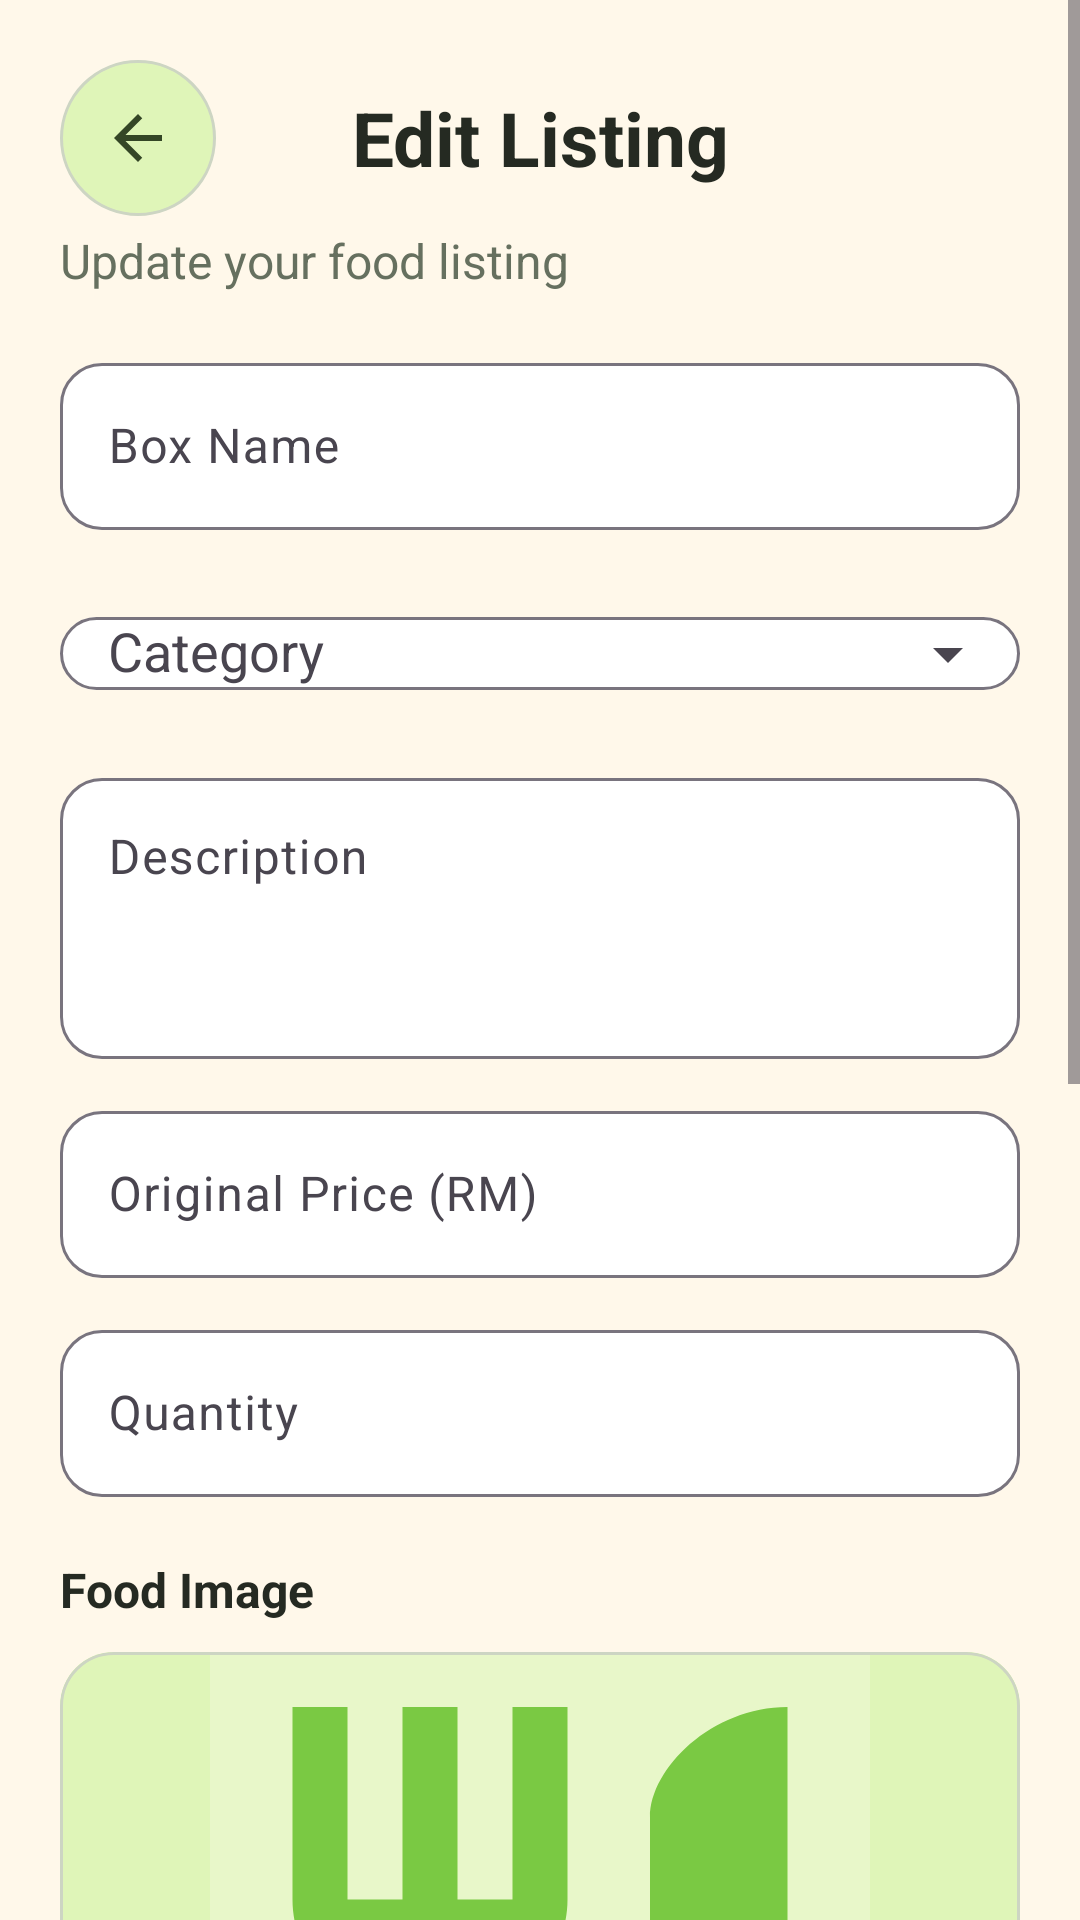

Icons on this 1080*1920 Android screen, each with the point to tap as [x,y]:
back: [138,138]
